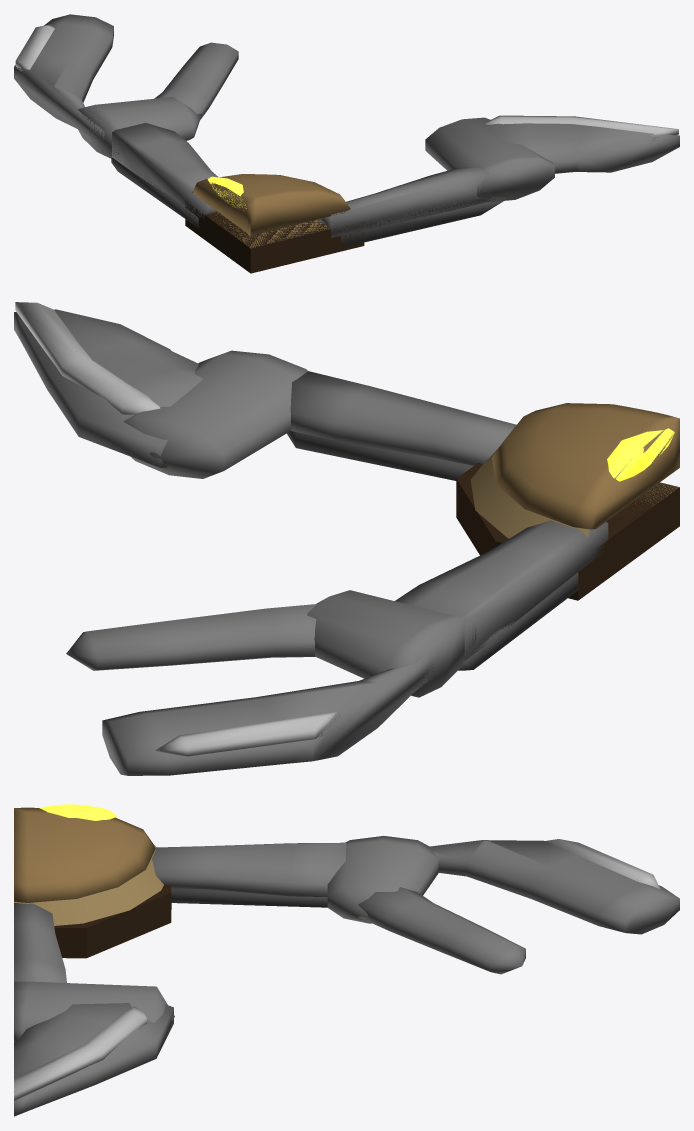
Rendered from newsh-hash-3-f3.glb.
3 renders of one model, top to bottom at view 1: azimuth 30°, elevation 25°; view 2: azimuth 150°, elevation 25°; view 3: azimuth 270°, elevation 25°, orthographic. The views are drawn at different scales.
Visible parts, largest first — view 1: newsh-hash-3-f3; view 2: newsh-hash-3-f3; view 3: newsh-hash-3-f3.
Part boxes in pixels (bbox=[...]): newsh-hash-3-f3: bbox=[14, 14, 679, 273]; newsh-hash-3-f3: bbox=[14, 302, 679, 775]; newsh-hash-3-f3: bbox=[14, 804, 679, 1116].
Size of the model in its own units: 1.79 by 0.289 by 2.
